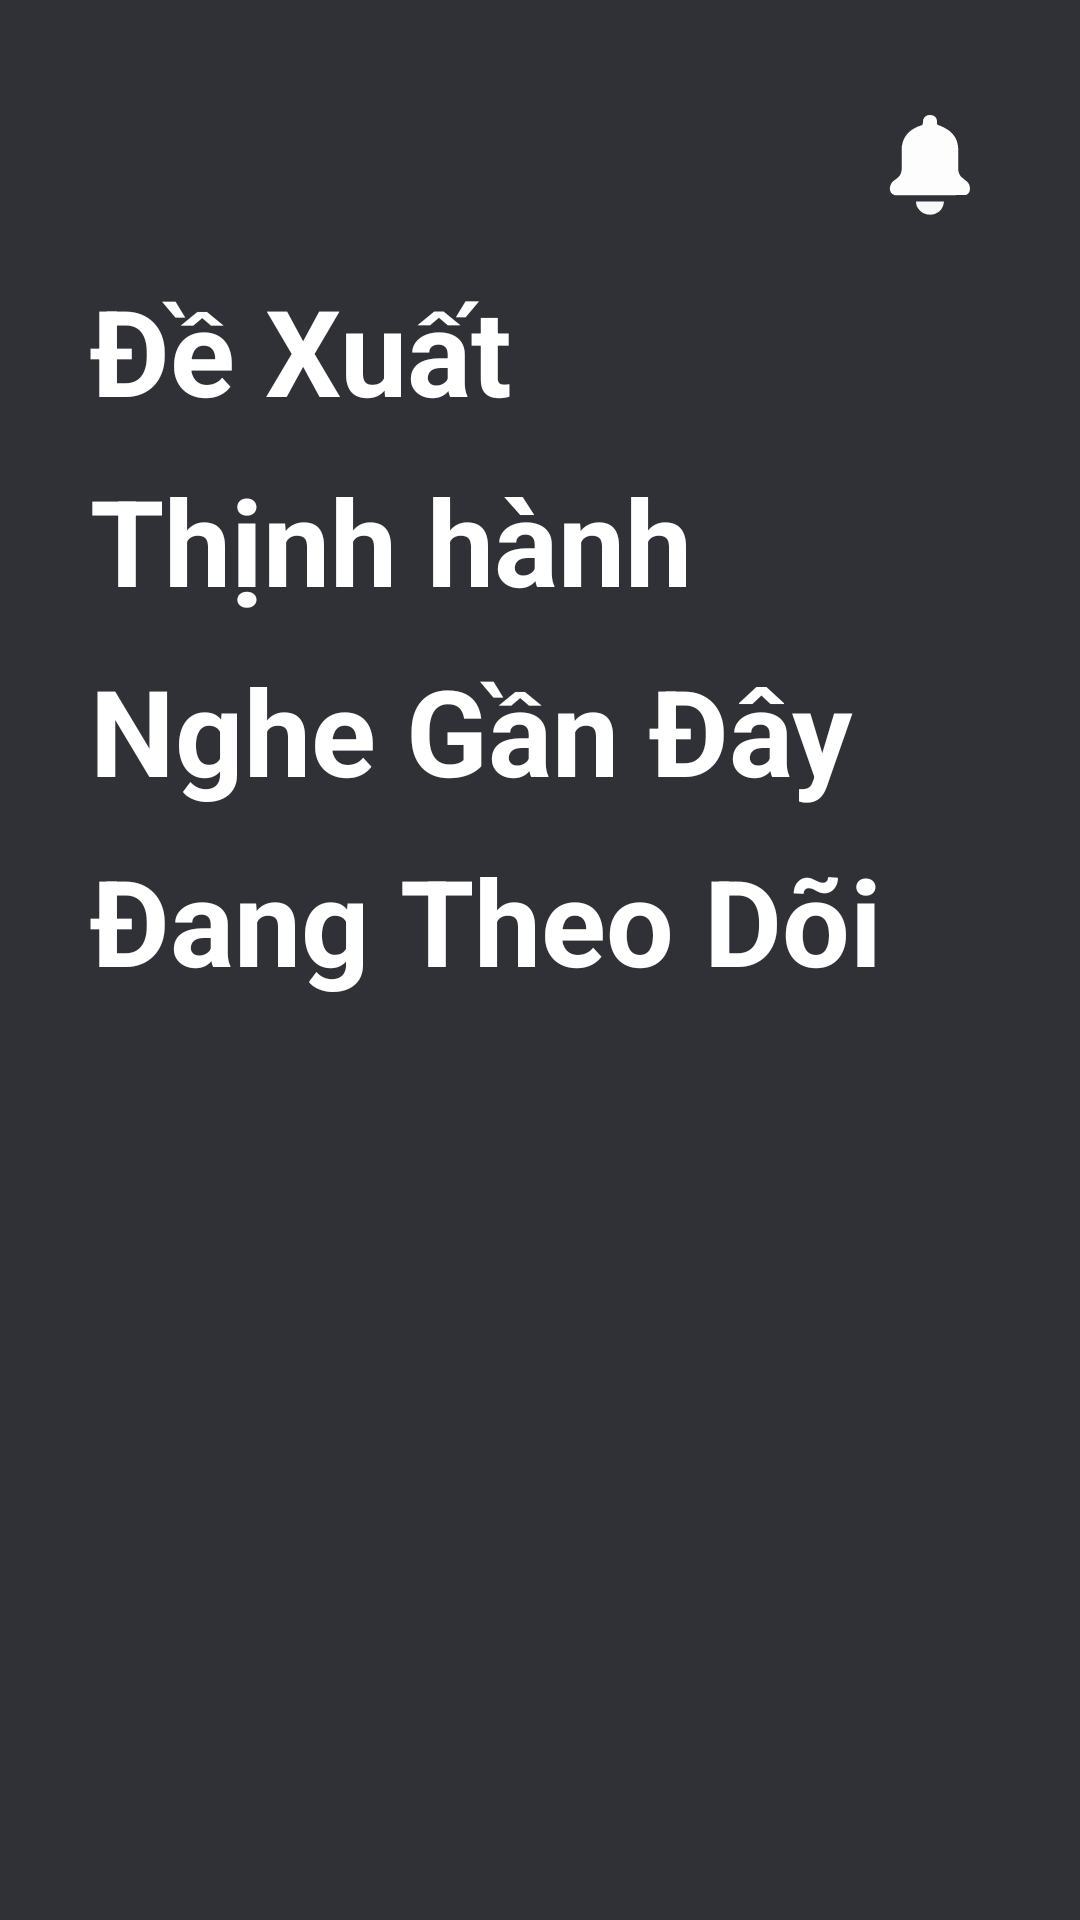

Icons on this 1080x1920 Android screen, each with the point to tap as [x,y]:
notification: [929,165]
